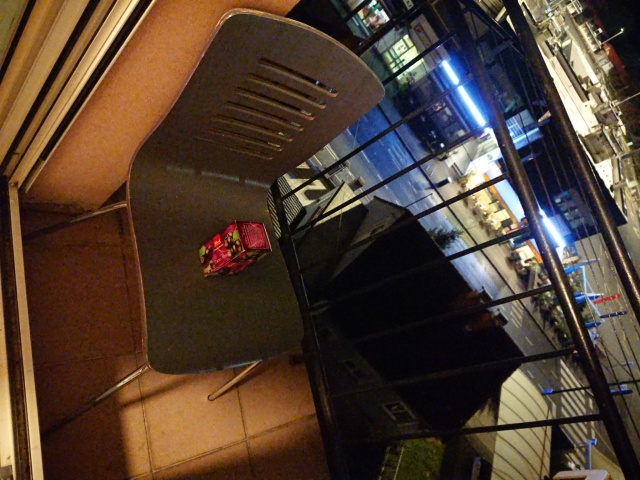Franck Black Currant Tea 60g: (195, 217, 274, 280)
